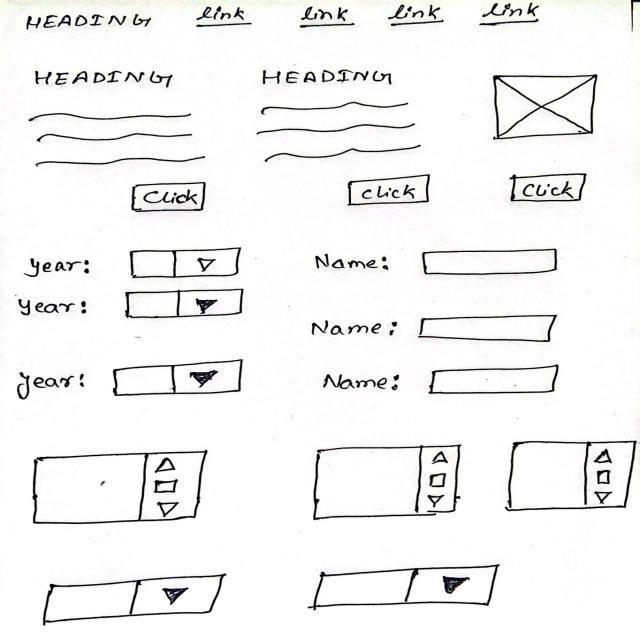textarea: (24, 447, 218, 530), (308, 436, 463, 519), (510, 431, 638, 519)
textbox: (419, 243, 564, 283), (419, 309, 559, 345), (427, 365, 571, 397)
